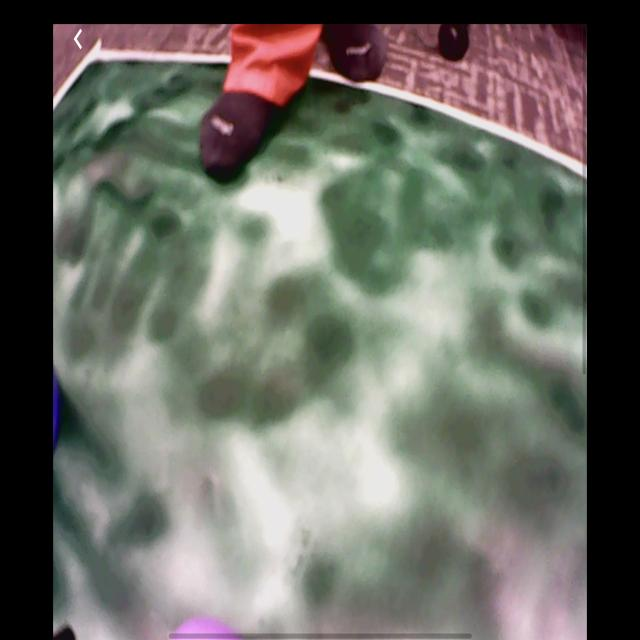ball: (173, 613, 242, 640)
